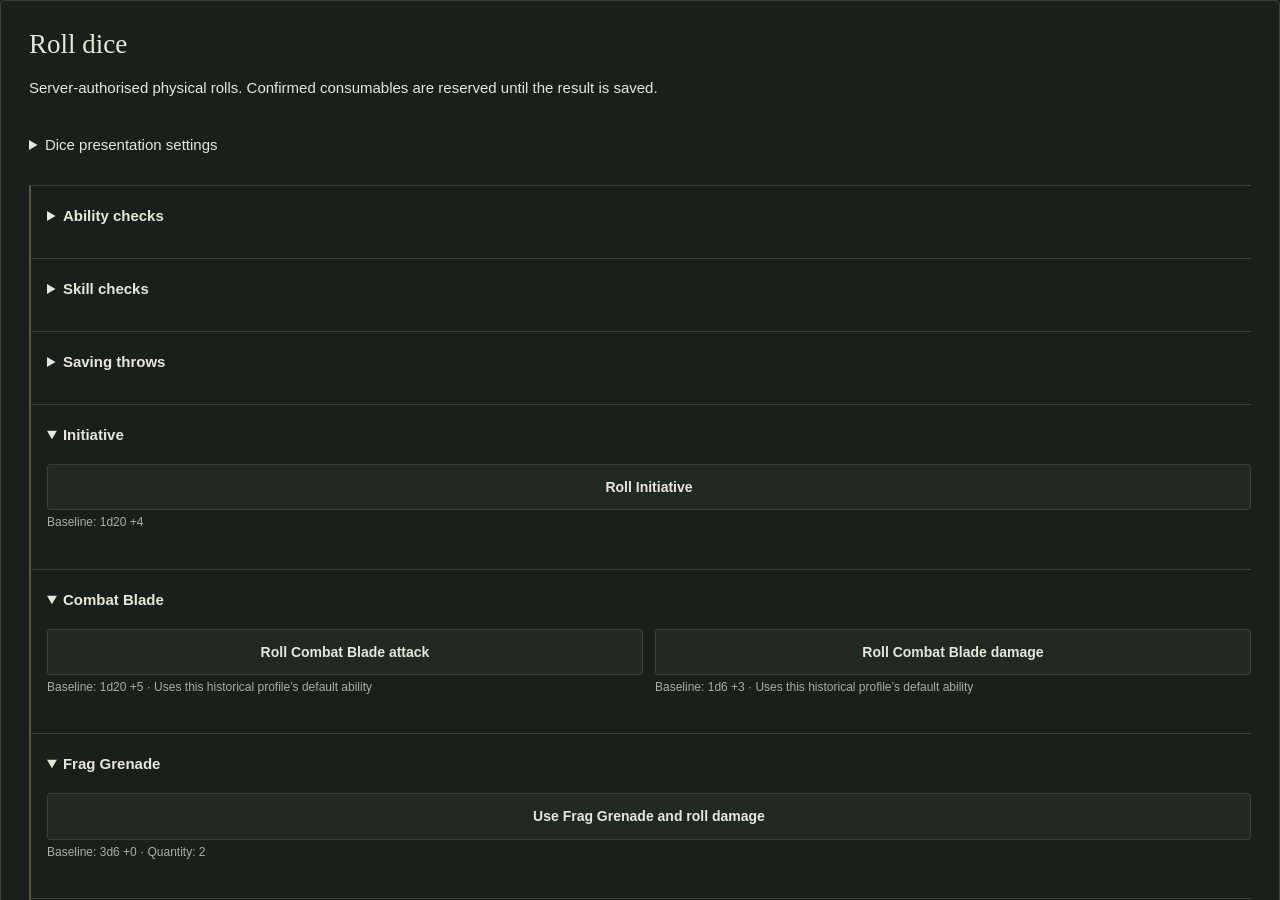
loads labelled roll controls without implicitly rolling
Click the heading "Ability checks" at [113, 216], box [63,207,164,224]
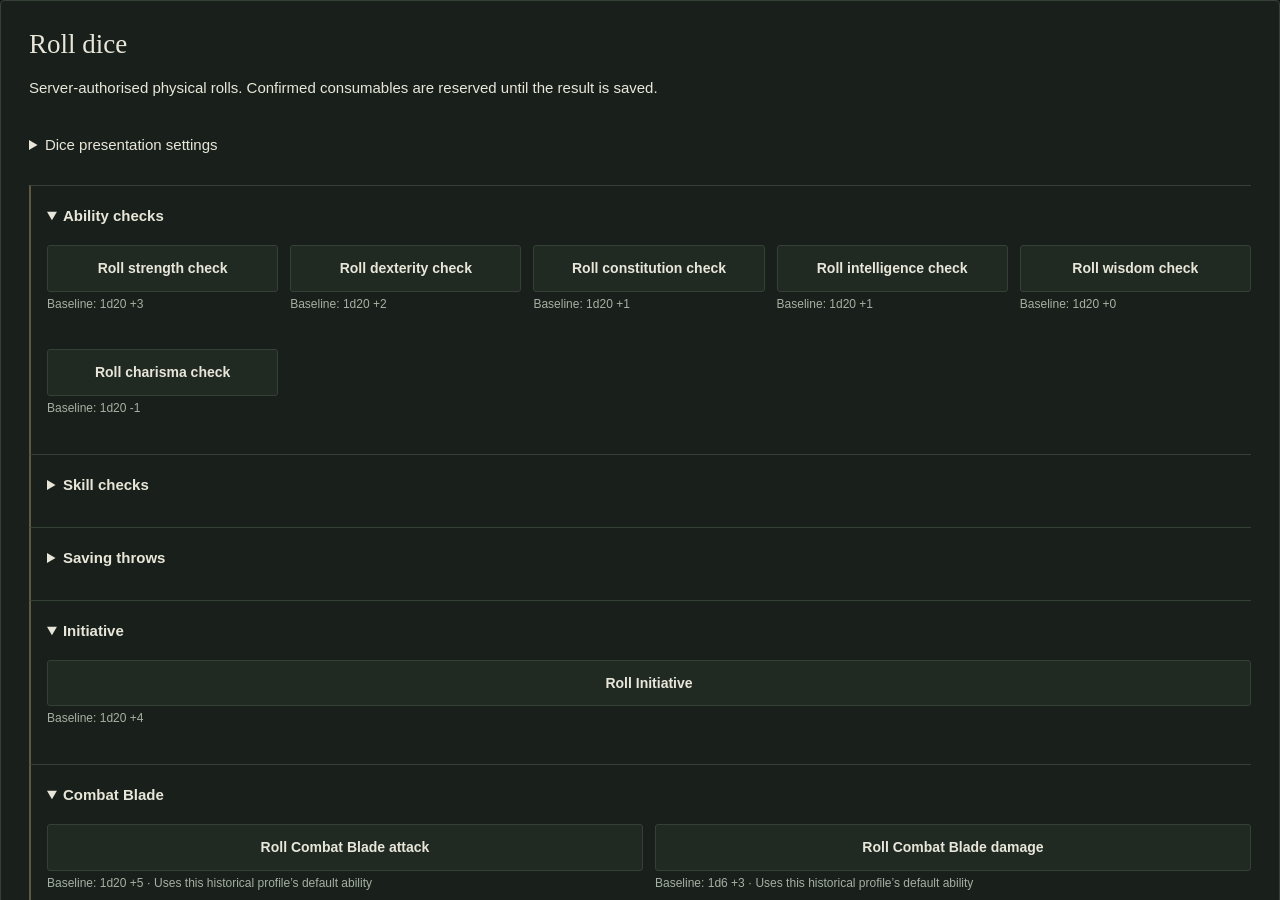
expect the button "Roll strength check" is enabled: met, box [47,245,278,292]
